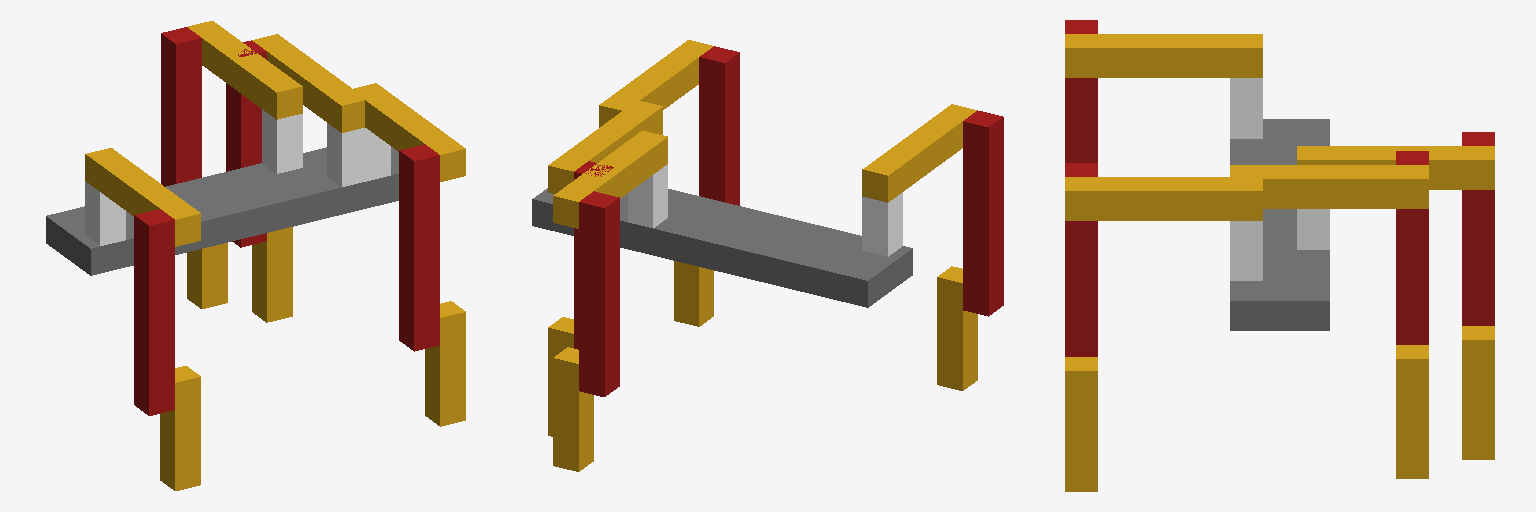
URDF robot description (v0):
<?xml version="1.0" encoding="utf-8"?>
<!-- =================================================================================== -->
<!-- |    This document was autogenerated by xacro from ../robots/v0variants/xacros/v0_4l_17.xacro | -->
<!-- |    EDITING THIS FILE BY HAND IS NOT RECOMMENDED                                 | -->
<!-- =================================================================================== -->
<robot name="v0">
  <material name="grey">
    <color rgba="0.5 0.5 0.5 1"/>
  </material>
  <material name="white">
    <color rgba="1 1 1 1"/>
  </material>
  <material name="yellow">
    <color rgba="0.91 0.7 0.14 1"/>
  </material>
  <material name="red">
    <color rgba="0.71 0.14 0.14 1"/>
  </material>
  <link name="body">
    <visual>
      <geometry>
        <box size="1.3 0.3 0.1"/>
      </geometry>
      <material name="grey"/>
      <origin rpy="0 0 0" xyz="0 0 0.7"/>
    </visual>
    <collision>
      <geometry>
        <box size="1.3 0.3 0.1"/>
      </geometry>
      <origin rpy="0 0 0" xyz="0 0 0.7"/>
    </collision>
    <inertial>
      <mass value="99.84"/>
      <inertia ixx="0.832" ixy="0.0" ixz="0.0" iyy="14.144" iyz="0.0" izz="14.8096"/>
    </inertial>
  </link>
  <link name="l1_segment_1">
    <visual>
      <geometry>
        <box size="0.1 0.1 0.2"/>
      </geometry>
      <material name="white"/>
      <origin rpy="0 0 0" xyz="0 0 0.1"/>
    </visual>
    <collision>
      <geometry>
        <box size="0.1 0.1 0.2"/>
      </geometry>
      <origin rpy="0 0 0" xyz="0 0 0.1"/>
    </collision>
    <inertial>
      <mass value="5.12"/>
      <inertia ixx="0.0213333333333" ixy="0.0" ixz="0.0" iyy="0.0213333333333" iyz="0.0" izz="0.00853333333333"/>
    </inertial>
  </link>
  <joint name="l1_base_to_joint_1" type="fixed">
    <parent link="body"/>
    <child link="l1_segment_1"/>
    <origin rpy="0 0 0" xyz="0.3666414865931339 -0.1 0.75"/>
  </joint>
  <link name="l1_segment_2_HIP">
    <visual>
      <geometry>
        <box size="0.1 0.6 0.1"/>
      </geometry>
      <material name="yellow"/>
      <origin rpy="0 0 0" xyz="0 0.25 0"/>
    </visual>
    <collision>
      <geometry>
        <box size="0.1 0.6 0.1"/>
      </geometry>
      <origin rpy="0 0 0" xyz="0 0.25 0"/>
    </collision>
    <inertial>
      <mass value="15.36"/>
      <inertia ixx="0.4736" ixy="0.0" ixz="0.0" iyy="0.0256" iyz="0.0" izz="0.4736"/>
    </inertial>
  </link>
  <joint name="l1_joint_1_to_2" type="revolute">
    <parent link="l1_segment_1"/>
    <child link="l1_segment_2_HIP"/>
    <origin rpy="0 0 0" xyz="0 0 0.25"/>
    <axis xyz="0.0 0.0 1.0"/>
    <limit effort="2048" lower="-1.2" upper="1.2" velocity="20"/>
  </joint>
  <link name="l1_segment_3_THIGH">
    <visual>
      <geometry>
        <box size="0.1 0.1 0.7"/>
      </geometry>
      <material name="red"/>
      <origin rpy="0 0 0" xyz="0 0 -0.3"/>
    </visual>
    <collision>
      <geometry>
        <box size="0.1 0.1 0.7"/>
      </geometry>
      <origin rpy="0 0 0" xyz="0 0 -0.3"/>
    </collision>
    <inertial>
      <mass value="17.92"/>
      <inertia ixx="0.746666666667" ixy="0.0" ixz="0.0" iyy="0.746666666667" iyz="0.0" izz="0.0298666666667"/>
    </inertial>
  </link>
  <joint name="l1_joint_2_to_3" type="revolute">
    <parent link="l1_segment_2_HIP"/>
    <child link="l1_segment_3_THIGH"/>
    <origin rpy="0 0 0" xyz="-0.1 0.5 0"/>
    <axis xyz="1.0 0.0 0.0"/>
    <limit effort="2048" lower="-0.2" upper="0.75" velocity="20"/>
  </joint>
  <link name="l1_segment_4_FOOT">
    <visual>
      <geometry>
        <box size="0.1 0.1 0.4"/>
      </geometry>
      <material name="yellow"/>
      <origin rpy="0 0 0" xyz="0 0 -0.2"/>
    </visual>
    <collision>
      <geometry>
        <box size="0.1 0.1 0.4"/>
      </geometry>
      <origin rpy="0 0 0" xyz="0 0 -0.2"/>
    </collision>
    <inertial>
      <mass value="10.24"/>
      <inertia ixx="0.145066666667" ixy="0.0" ixz="0.0" iyy="0.145066666667" iyz="0.0" izz="0.0170666666667"/>
    </inertial>
  </link>
  <joint name="l1_joint_3_to_4_FOOT" type="revolute">
    <parent link="l1_segment_3_THIGH"/>
    <child link="l1_segment_4_FOOT"/>
    <origin rpy="0 0 0" xyz="0.1 0 -0.55"/>
    <axis xyz="1.0 0.0 0.0"/>
    <limit effort="2048" lower="-0.2" upper="0.5" velocity="20"/>
  </joint>
  <link name="r2_segment_1">
    <visual>
      <geometry>
        <box size="0.1 0.1 0.2"/>
      </geometry>
      <material name="white"/>
      <origin rpy="0 0 0" xyz="0 0 0.1"/>
    </visual>
    <collision>
      <geometry>
        <box size="0.1 0.1 0.2"/>
      </geometry>
      <origin rpy="0 0 0" xyz="0 0 0.1"/>
    </collision>
    <inertial>
      <mass value="5.12"/>
      <inertia ixx="0.0213333333333" ixy="0.0" ixz="0.0" iyy="0.0213333333333" iyz="0.0" izz="0.00853333333333"/>
    </inertial>
  </link>
  <joint name="r2_base_to_joint_1" type="fixed">
    <parent link="body"/>
    <child link="r2_segment_1"/>
    <origin rpy="0 0 0" xyz="-0.5627225958570885 -0.1 0.75"/>
  </joint>
  <link name="r2_segment_2_HIP">
    <visual>
      <geometry>
        <box size="0.1 0.6 0.1"/>
      </geometry>
      <material name="yellow"/>
      <origin rpy="0 0 0" xyz="0 -0.25 0"/>
    </visual>
    <collision>
      <geometry>
        <box size="0.1 0.6 0.1"/>
      </geometry>
      <origin rpy="0 0 0" xyz="0 -0.25 0"/>
    </collision>
    <inertial>
      <mass value="15.36"/>
      <inertia ixx="0.4736" ixy="0.0" ixz="0.0" iyy="0.0256" iyz="0.0" izz="0.4736"/>
    </inertial>
  </link>
  <joint name="r2_joint_1_to_2" type="revolute">
    <parent link="r2_segment_1"/>
    <child link="r2_segment_2_HIP"/>
    <origin rpy="0 0 0" xyz="0 0 0.25"/>
    <axis xyz="0.0 0.0 1.0"/>
    <limit effort="2048" lower="-1.2" upper="1.2" velocity="20"/>
  </joint>
  <link name="r2_segment_3_THIGH">
    <visual>
      <geometry>
        <box size="0.1 0.1 0.7"/>
      </geometry>
      <material name="red"/>
      <origin rpy="0 0 0" xyz="0 0 -0.3"/>
    </visual>
    <collision>
      <geometry>
        <box size="0.1 0.1 0.7"/>
      </geometry>
      <origin rpy="0 0 0" xyz="0 0 -0.3"/>
    </collision>
    <inertial>
      <mass value="17.92"/>
      <inertia ixx="0.746666666667" ixy="0.0" ixz="0.0" iyy="0.746666666667" iyz="0.0" izz="0.0298666666667"/>
    </inertial>
  </link>
  <joint name="r2_joint_2_to_3" type="revolute">
    <parent link="r2_segment_2_HIP"/>
    <child link="r2_segment_3_THIGH"/>
    <origin rpy="0 0 0" xyz="-0.1 -0.5 0"/>
    <axis xyz="1.0 0.0 0.0"/>
    <limit effort="2048" lower="-0.75" upper="0.2" velocity="20"/>
  </joint>
  <link name="r2_segment_4_FOOT">
    <visual>
      <geometry>
        <box size="0.1 0.1 0.4"/>
      </geometry>
      <material name="yellow"/>
      <origin rpy="0 0 0" xyz="0 0 -0.2"/>
    </visual>
    <collision>
      <geometry>
        <box size="0.1 0.1 0.4"/>
      </geometry>
      <origin rpy="0 0 0" xyz="0 0 -0.2"/>
    </collision>
    <inertial>
      <mass value="10.24"/>
      <inertia ixx="0.145066666667" ixy="0.0" ixz="0.0" iyy="0.145066666667" iyz="0.0" izz="0.0170666666667"/>
    </inertial>
  </link>
  <joint name="r2_joint_3_to_4_FOOT" type="revolute">
    <parent link="r2_segment_3_THIGH"/>
    <child link="r2_segment_4_FOOT"/>
    <origin rpy="0 0 0" xyz="0.1 0 -0.55"/>
    <axis xyz="1.0 0.0 0.0"/>
    <limit effort="2048" lower="-0.5" upper="0.2" velocity="20"/>
  </joint>
  <link name="l3_segment_1">
    <visual>
      <geometry>
        <box size="0.1 0.1 0.2"/>
      </geometry>
      <material name="white"/>
      <origin rpy="0 0 0" xyz="0 0 0.1"/>
    </visual>
    <collision>
      <geometry>
        <box size="0.1 0.1 0.2"/>
      </geometry>
      <origin rpy="0 0 0" xyz="0 0 0.1"/>
    </collision>
    <inertial>
      <mass value="5.12"/>
      <inertia ixx="0.0213333333333" ixy="0.0" ixz="0.0" iyy="0.0213333333333" iyz="0.0" izz="0.00853333333333"/>
    </inertial>
  </link>
  <joint name="l3_base_to_joint_1" type="fixed">
    <parent link="body"/>
    <child link="l3_segment_1"/>
    <origin rpy="0 0 0" xyz="0.23179053015375994 0.1 0.75"/>
  </joint>
  <link name="l3_segment_2_HIP">
    <visual>
      <geometry>
        <box size="0.1 0.6 0.1"/>
      </geometry>
      <material name="yellow"/>
      <origin rpy="0 0 0" xyz="0 0.25 0"/>
    </visual>
    <collision>
      <geometry>
        <box size="0.1 0.6 0.1"/>
      </geometry>
      <origin rpy="0 0 0" xyz="0 0.25 0"/>
    </collision>
    <inertial>
      <mass value="15.36"/>
      <inertia ixx="0.4736" ixy="0.0" ixz="0.0" iyy="0.0256" iyz="0.0" izz="0.4736"/>
    </inertial>
  </link>
  <joint name="l3_joint_1_to_2" type="revolute">
    <parent link="l3_segment_1"/>
    <child link="l3_segment_2_HIP"/>
    <origin rpy="0 0 0" xyz="0 0 0.25"/>
    <axis xyz="0.0 0.0 1.0"/>
    <limit effort="2048" lower="-1.2" upper="1.2" velocity="20"/>
  </joint>
  <link name="l3_segment_3_THIGH">
    <visual>
      <geometry>
        <box size="0.1 0.1 0.7"/>
      </geometry>
      <material name="red"/>
      <origin rpy="0 0 0" xyz="0 0 -0.3"/>
    </visual>
    <collision>
      <geometry>
        <box size="0.1 0.1 0.7"/>
      </geometry>
      <origin rpy="0 0 0" xyz="0 0 -0.3"/>
    </collision>
    <inertial>
      <mass value="17.92"/>
      <inertia ixx="0.746666666667" ixy="0.0" ixz="0.0" iyy="0.746666666667" iyz="0.0" izz="0.0298666666667"/>
    </inertial>
  </link>
  <joint name="l3_joint_2_to_3" type="revolute">
    <parent link="l3_segment_2_HIP"/>
    <child link="l3_segment_3_THIGH"/>
    <origin rpy="0 0 0" xyz="-0.1 0.5 0"/>
    <axis xyz="1.0 0.0 0.0"/>
    <limit effort="2048" lower="-0.2" upper="0.75" velocity="20"/>
  </joint>
  <link name="l3_segment_4_FOOT">
    <visual>
      <geometry>
        <box size="0.1 0.1 0.4"/>
      </geometry>
      <material name="yellow"/>
      <origin rpy="0 0 0" xyz="0 0 -0.2"/>
    </visual>
    <collision>
      <geometry>
        <box size="0.1 0.1 0.4"/>
      </geometry>
      <origin rpy="0 0 0" xyz="0 0 -0.2"/>
    </collision>
    <inertial>
      <mass value="10.24"/>
      <inertia ixx="0.145066666667" ixy="0.0" ixz="0.0" iyy="0.145066666667" iyz="0.0" izz="0.0170666666667"/>
    </inertial>
  </link>
  <joint name="l3_joint_3_to_4_FOOT" type="revolute">
    <parent link="l3_segment_3_THIGH"/>
    <child link="l3_segment_4_FOOT"/>
    <origin rpy="0 0 0" xyz="0.1 0 -0.55"/>
    <axis xyz="1.0 0.0 0.0"/>
    <limit effort="2048" lower="-0.2" upper="0.5" velocity="20"/>
  </joint>
  <link name="r4_segment_1">
    <visual>
      <geometry>
        <box size="0.1 0.1 0.2"/>
      </geometry>
      <material name="white"/>
      <origin rpy="0 0 0" xyz="0 0 0.1"/>
    </visual>
    <collision>
      <geometry>
        <box size="0.1 0.1 0.2"/>
      </geometry>
      <origin rpy="0 0 0" xyz="0 0 0.1"/>
    </collision>
    <inertial>
      <mass value="5.12"/>
      <inertia ixx="0.0213333333333" ixy="0.0" ixz="0.0" iyy="0.0213333333333" iyz="0.0" izz="0.00853333333333"/>
    </inertial>
  </link>
  <joint name="r4_base_to_joint_1" type="fixed">
    <parent link="body"/>
    <child link="r4_segment_1"/>
    <origin rpy="0 0 0" xyz="0.45778656565130527 -0.1 0.75"/>
  </joint>
  <link name="r4_segment_2_HIP">
    <visual>
      <geometry>
        <box size="0.1 0.6 0.1"/>
      </geometry>
      <material name="yellow"/>
      <origin rpy="0 0 0" xyz="0 -0.25 0"/>
    </visual>
    <collision>
      <geometry>
        <box size="0.1 0.6 0.1"/>
      </geometry>
      <origin rpy="0 0 0" xyz="0 -0.25 0"/>
    </collision>
    <inertial>
      <mass value="15.36"/>
      <inertia ixx="0.4736" ixy="0.0" ixz="0.0" iyy="0.0256" iyz="0.0" izz="0.4736"/>
    </inertial>
  </link>
  <joint name="r4_joint_1_to_2" type="revolute">
    <parent link="r4_segment_1"/>
    <child link="r4_segment_2_HIP"/>
    <origin rpy="0 0 0" xyz="0 0 0.25"/>
    <axis xyz="0.0 0.0 1.0"/>
    <limit effort="2048" lower="-1.2" upper="1.2" velocity="20"/>
  </joint>
  <link name="r4_segment_3_THIGH">
    <visual>
      <geometry>
        <box size="0.1 0.1 0.7"/>
      </geometry>
      <material name="red"/>
      <origin rpy="0 0 0" xyz="0 0 -0.3"/>
    </visual>
    <collision>
      <geometry>
        <box size="0.1 0.1 0.7"/>
      </geometry>
      <origin rpy="0 0 0" xyz="0 0 -0.3"/>
    </collision>
    <inertial>
      <mass value="17.92"/>
      <inertia ixx="0.746666666667" ixy="0.0" ixz="0.0" iyy="0.746666666667" iyz="0.0" izz="0.0298666666667"/>
    </inertial>
  </link>
  <joint name="r4_joint_2_to_3" type="revolute">
    <parent link="r4_segment_2_HIP"/>
    <child link="r4_segment_3_THIGH"/>
    <origin rpy="0 0 0" xyz="-0.1 -0.5 0"/>
    <axis xyz="1.0 0.0 0.0"/>
    <limit effort="2048" lower="-0.75" upper="0.2" velocity="20"/>
  </joint>
  <link name="r4_segment_4_FOOT">
    <visual>
      <geometry>
        <box size="0.1 0.1 0.4"/>
      </geometry>
      <material name="yellow"/>
      <origin rpy="0 0 0" xyz="0 0 -0.2"/>
    </visual>
    <collision>
      <geometry>
        <box size="0.1 0.1 0.4"/>
      </geometry>
      <origin rpy="0 0 0" xyz="0 0 -0.2"/>
    </collision>
    <inertial>
      <mass value="10.24"/>
      <inertia ixx="0.145066666667" ixy="0.0" ixz="0.0" iyy="0.145066666667" iyz="0.0" izz="0.0170666666667"/>
    </inertial>
  </link>
  <joint name="r4_joint_3_to_4_FOOT" type="revolute">
    <parent link="r4_segment_3_THIGH"/>
    <child link="r4_segment_4_FOOT"/>
    <origin rpy="0 0 0" xyz="0.1 0 -0.55"/>
    <axis xyz="1.0 0.0 0.0"/>
    <limit effort="2048" lower="-0.5" upper="0.2" velocity="20"/>
  </joint>
</robot>

--- Facts derived from the render (not from the file) ---
3 views of the same robot in one strip: view 1: azimuth 30°, elevation 25°; view 2: azimuth 150°, elevation 25°; view 3: azimuth 270°, elevation 25° (orthographic).
Robot: v0 — 17 links, 16 joints (12 revolute, 4 fixed); root link body; default pose: all joints at 0.
Visible links, largest first — view 1: body, r2_segment_3_THIGH, r4_segment_3_THIGH, l3_segment_3_THIGH, l3_segment_2_HIP, r2_segment_2_HIP, l1_segment_2_HIP, r4_segment_2_HIP, r2_segment_4_FOOT, r4_segment_4_FOOT, l1_segment_4_FOOT, l1_segment_3_THIGH (+5 smaller); view 2: body, r2_segment_3_THIGH, l3_segment_3_THIGH, r4_segment_3_THIGH, r2_segment_2_HIP, l3_segment_2_HIP, l3_segment_4_FOOT, r2_segment_4_FOOT, r4_segment_2_HIP, l1_segment_2_HIP, r4_segment_4_FOOT, r2_segment_1 (+3 smaller); view 3: body, r2_segment_2_HIP, r4_segment_2_HIP, l1_segment_2_HIP, l1_segment_3_THIGH, l3_segment_2_HIP, l3_segment_3_THIGH, r4_segment_3_THIGH, r4_segment_4_FOOT, l1_segment_4_FOOT, l3_segment_4_FOOT, r2_segment_3_THIGH (+3 smaller).
Boxes of the visible links, x1,y1,x2,y2 form: body: (46, 147, 398, 275); r2_segment_3_THIGH: (134, 209, 174, 415); r4_segment_3_THIGH: (399, 144, 439, 351); l3_segment_3_THIGH: (161, 27, 201, 186); l3_segment_2_HIP: (188, 21, 302, 119); r2_segment_2_HIP: (85, 148, 200, 246); l1_segment_2_HIP: (252, 34, 366, 132); r4_segment_2_HIP: (354, 83, 465, 181); r2_segment_4_FOOT: (160, 366, 200, 490); r4_segment_4_FOOT: (425, 301, 465, 426); l1_segment_4_FOOT: (252, 227, 292, 322); l1_segment_3_THIGH: (226, 40, 266, 247); body: (532, 188, 912, 307); r2_segment_3_THIGH: (963, 110, 1003, 316); l3_segment_3_THIGH: (579, 191, 619, 396); r4_segment_3_THIGH: (699, 46, 739, 205); r2_segment_2_HIP: (862, 104, 976, 202); l3_segment_2_HIP: (553, 130, 667, 228); l3_segment_4_FOOT: (553, 347, 593, 471); r2_segment_4_FOOT: (937, 266, 977, 390); r4_segment_2_HIP: (599, 40, 713, 127); l1_segment_2_HIP: (548, 101, 662, 193); r4_segment_4_FOOT: (674, 261, 713, 326); r2_segment_1: (862, 192, 902, 256); body: (1230, 119, 1329, 330); r2_segment_2_HIP: (1065, 34, 1262, 77); r4_segment_2_HIP: (1065, 177, 1262, 220); l1_segment_2_HIP: (1230, 165, 1428, 208); l1_segment_3_THIGH: (1396, 151, 1428, 344); l3_segment_2_HIP: (1297, 146, 1494, 189); l3_segment_3_THIGH: (1462, 132, 1494, 325); r4_segment_3_THIGH: (1065, 163, 1097, 356); r4_segment_4_FOOT: (1065, 357, 1097, 491); l1_segment_4_FOOT: (1396, 345, 1428, 478); l3_segment_4_FOOT: (1462, 326, 1494, 459); r2_segment_3_THIGH: (1065, 20, 1097, 162).
Size in the robot's own frame: 1.36 by 1.3 by 1 metres.
Geometry: primitives only (box / cylinder / sphere), no mesh files.